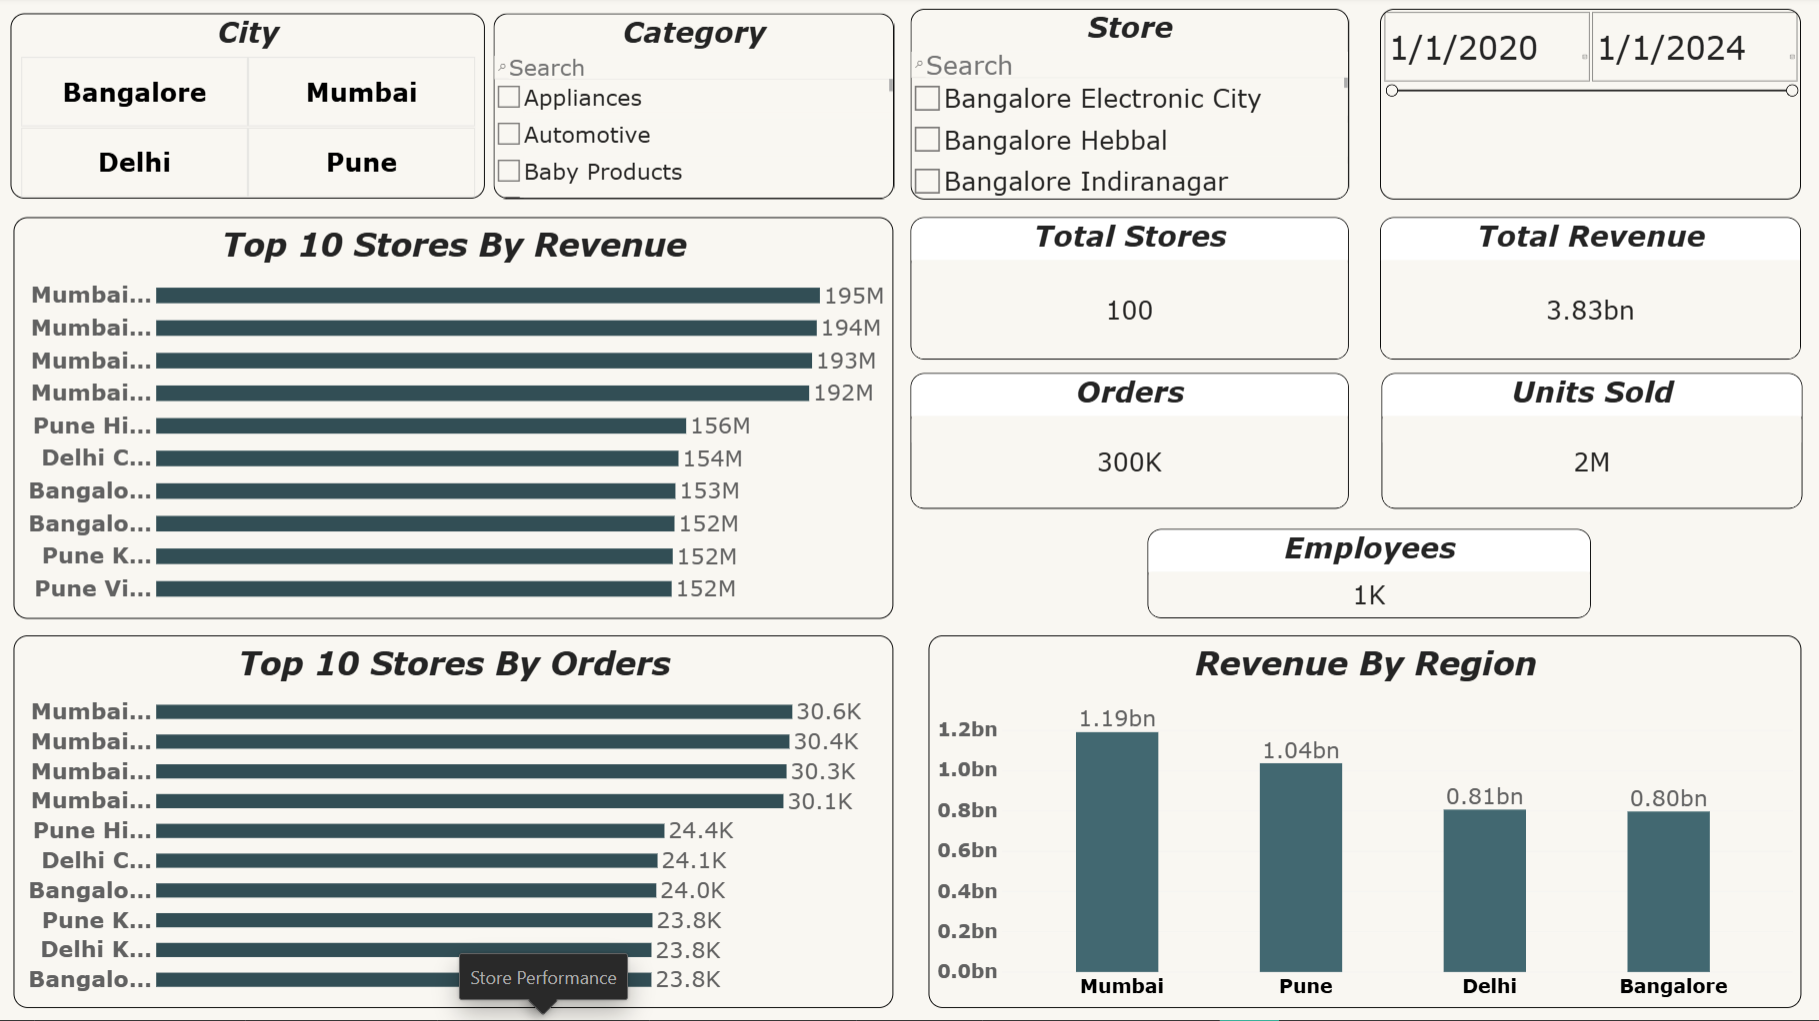

What the dashboard file says about the page in this screenshot:
{"tool":"powerbi","page":{"name":"Store Performance","canvas":[3840,2160],"ordinal":3},"visuals":[{"type":"cardVisual","title":"Total Stores","fields":{"Data":["CountNonNull(public stores.store_id)"]},"box":[1921.2,464,924.4,300.9],"z":0},{"type":"cardVisual","title":"Total Revenue","fields":{"Data":["Measures_Table.Total Revenue"]},"box":[2910.8,464,888.1,300.9],"z":1000},{"type":"cardVisual","title":"Orders","fields":{"Data":["CountNonNull(public orders.order_id)"]},"box":[1921.2,793.9,924.4,286.4],"z":2000},{"type":"cardVisual","title":"Units Sold","fields":{"Data":["Sum(public order_items.qty)"]},"box":[2914.5,793.9,888.1,286.4],"z":3000},{"type":"cardVisual","title":"Employees","fields":{"Data":["CountNonNull(public employees.employee_id)"]},"box":[2421.5,1123.7,935.2,188.5],"z":4000},{"type":"clusteredColumnChart","title":"Revenue By Region","fields":{"Category":["regions.region_name"],"Y":["Measures_Table.Total Revenue"]},"box":[1957.5,1348.5,1841.5,786.6],"z":5000},{"type":"clusteredBarChart","title":"Top 10 Stores By Orders","fields":{"Category":["public stores.store_name"],"Y":["CountNonNull(public order_items.order_item_id)"]},"box":[29,1348.5,1856,786.6],"z":6000},{"type":"clusteredBarChart","title":"Top 10 Stores By Revenue ","fields":{"Category":["public stores.store_name"],"Y":["Measures_Table.Total Revenue"]},"box":[29,464,1856,848.2],"z":8000},{"type":"slicer","fields":{"Values":["DateTable.Date"]},"box":[2910.8,25.4,888.1,402.4],"z":9000},{"type":"slicer","title":"Store","fields":{"Values":["public stores.store_name"]},"box":[1921.2,25.4,924.4,402.4],"z":10000},{"type":"slicer","title":"Category","fields":{"Values":["public categories.category_name"]},"box":[1040.4,36.2,844.6,391.5],"z":10001},{"type":"slicer","title":"City","fields":{"Values":["public stores.city"]},"box":[21.7,36.2,1000.5,391.5],"z":10002}]}

Visuals, with their boxes in screenshot pixels (x1, y1, x2, y2), scaled from the page's 3840x2160 canvas onto the 1819x1021 screenshot:
"Total Stores" cardVisual: rect(910, 219, 1348, 362)
"Total Revenue" cardVisual: rect(1379, 219, 1800, 362)
"Orders" cardVisual: rect(910, 375, 1348, 511)
"Units Sold" cardVisual: rect(1381, 375, 1801, 511)
"Employees" cardVisual: rect(1147, 531, 1590, 620)
"Revenue By Region" clusteredColumnChart: rect(927, 637, 1800, 1009)
"Top 10 Stores By Orders" clusteredBarChart: rect(14, 637, 893, 1009)
"Top 10 Stores By Revenue " clusteredBarChart: rect(14, 219, 893, 620)
slicer - DateTable.Date: rect(1379, 12, 1800, 202)
"Store" slicer: rect(910, 12, 1348, 202)
"Category" slicer: rect(493, 17, 893, 202)
"City" slicer: rect(10, 17, 484, 202)
